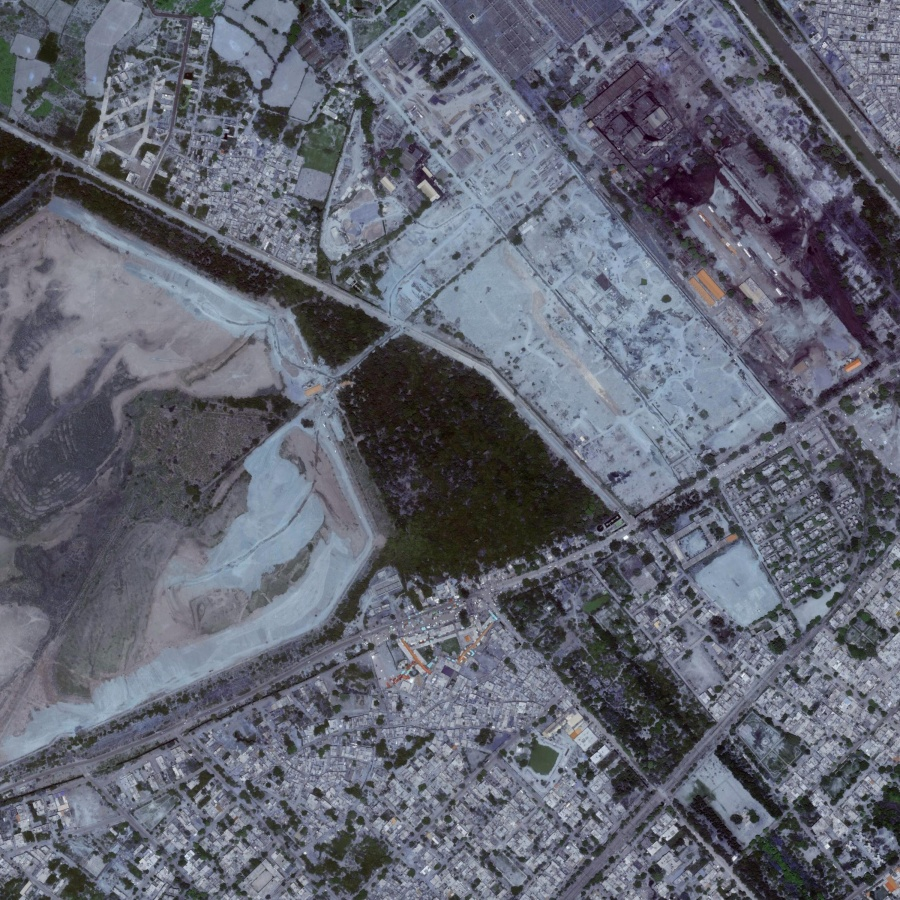PowerPlant: (584, 56, 883, 379)
